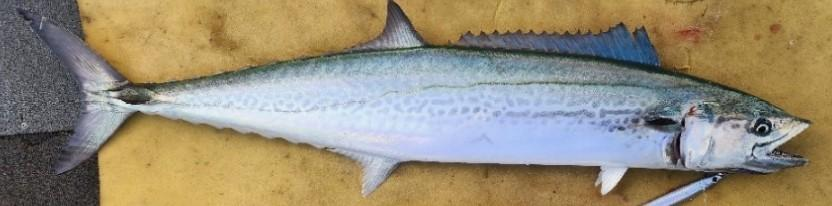fish: (16, 2, 812, 196)
